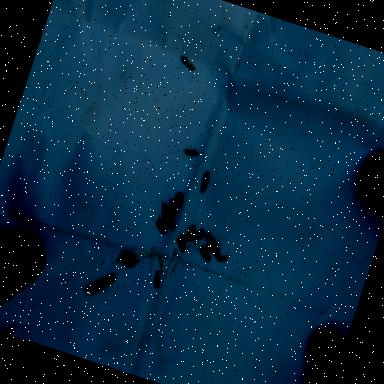pbw: (178, 53, 199, 72), (153, 214, 171, 235), (196, 242, 214, 262), (158, 212, 178, 230), (206, 238, 224, 258), (188, 227, 207, 245), (174, 231, 190, 252), (199, 170, 211, 194), (183, 222, 197, 242), (164, 204, 178, 222), (168, 196, 180, 216), (183, 145, 199, 157), (160, 202, 172, 218), (119, 250, 136, 261), (120, 257, 134, 268), (216, 252, 228, 264), (176, 194, 184, 210), (174, 191, 182, 204)
